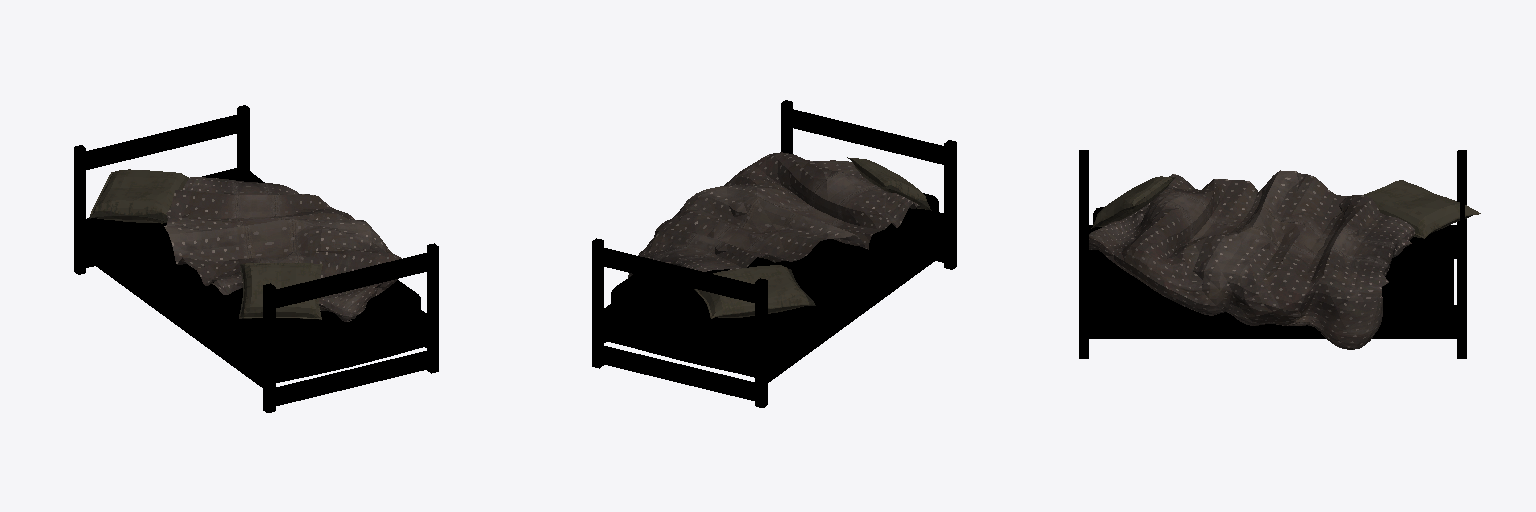
The picture shows the model from 3 angles: view 1: azimuth 30°, elevation 25°; view 2: azimuth 150°, elevation 25°; view 3: azimuth 270°, elevation 25°; orthographic projection.
Visible parts, largest first — view 1: Cama_H2; view 2: Cama_H2; view 3: Cama_H2.
Part boxes in pixels (x1,y1,x2,y2): Cama_H2: (74,105,438,412); Cama_H2: (592,100,956,407); Cama_H2: (1079,150,1480,358).
Bounding box in the file's own units: 1.5 × 0.8353 × 2.42.
4 materials, 2 textured.